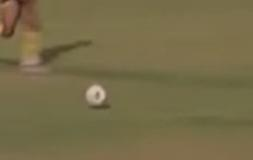ball: (81, 78, 115, 111)
